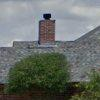Chimney: (34, 8, 62, 52)
